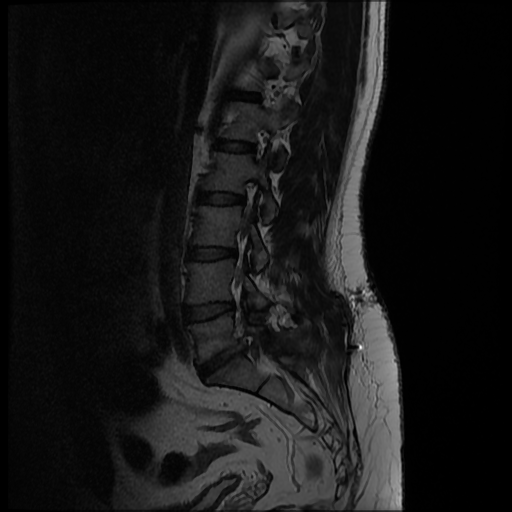RFS0: (241, 121, 275, 168)
